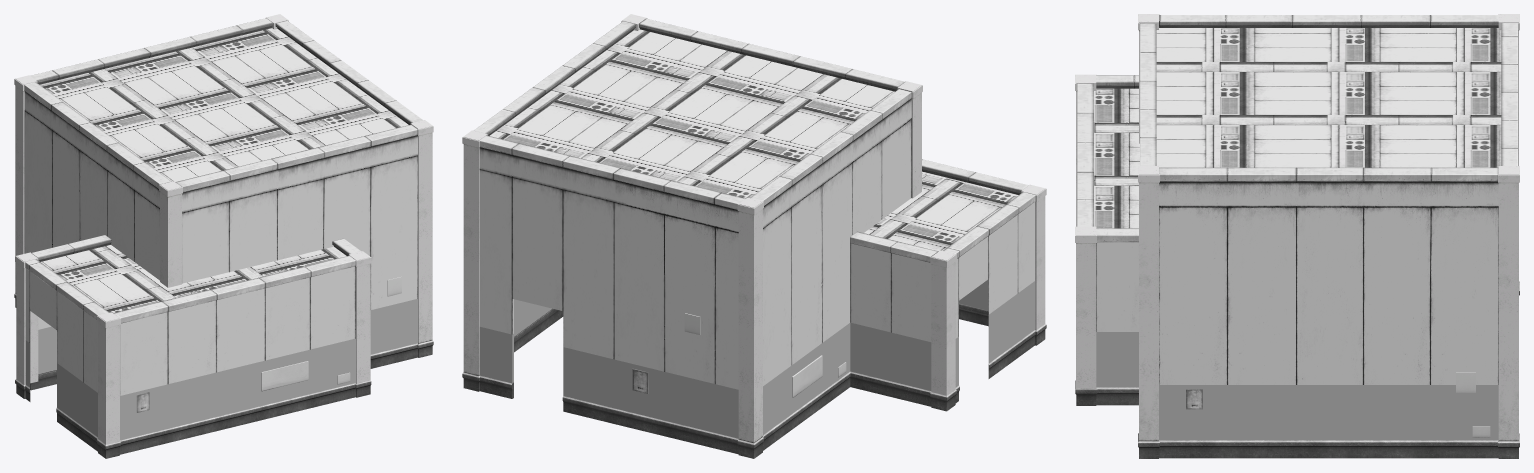
Rendered from S_RooftopStructure_05.dae.
3 views of the same model, side by side, from view 1: azimuth 30°, elevation 25°; view 2: azimuth 150°, elevation 25°; view 3: azimuth 270°, elevation 25° (orthographic). The views are drawn at different scales.
Parts seen in each view (by area): view 1: S_RooftopStructure_05.004, S_RooftopStructure_05.006, S_RooftopStructure_05.003, S_RooftopStructure_05.005; view 2: S_RooftopStructure_05.004, S_RooftopStructure_05.006, S_RooftopStructure_05.003, S_RooftopStructure_05.005; view 3: S_RooftopStructure_05.004, S_RooftopStructure_05.006, S_RooftopStructure_05.003, S_RooftopStructure_05.005.
Boxes of the visible parts, bbox=[...] form: S_RooftopStructure_05.004: bbox=[14, 14, 433, 458]; S_RooftopStructure_05.006: bbox=[40, 28, 408, 313]; S_RooftopStructure_05.003: bbox=[25, 299, 417, 440]; S_RooftopStructure_05.005: bbox=[261, 276, 401, 391]; S_RooftopStructure_05.004: bbox=[462, 14, 1046, 458]; S_RooftopStructure_05.006: bbox=[490, 29, 1018, 251]; S_RooftopStructure_05.003: bbox=[479, 279, 1034, 438]; S_RooftopStructure_05.005: bbox=[684, 313, 846, 397]; S_RooftopStructure_05.004: bbox=[1075, 14, 1519, 458]; S_RooftopStructure_05.006: bbox=[1094, 28, 1501, 228]; S_RooftopStructure_05.003: bbox=[1096, 332, 1498, 440]; S_RooftopStructure_05.005: bbox=[1456, 372, 1490, 437].
Bounding box in the file's own units: 0.1036 × 0.0908 × 0.0641.
